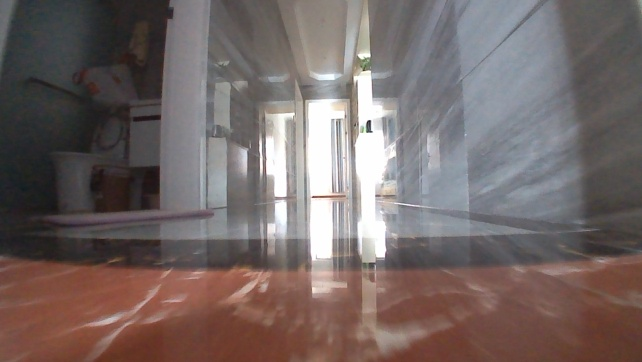toilet: (46, 106, 147, 215)
